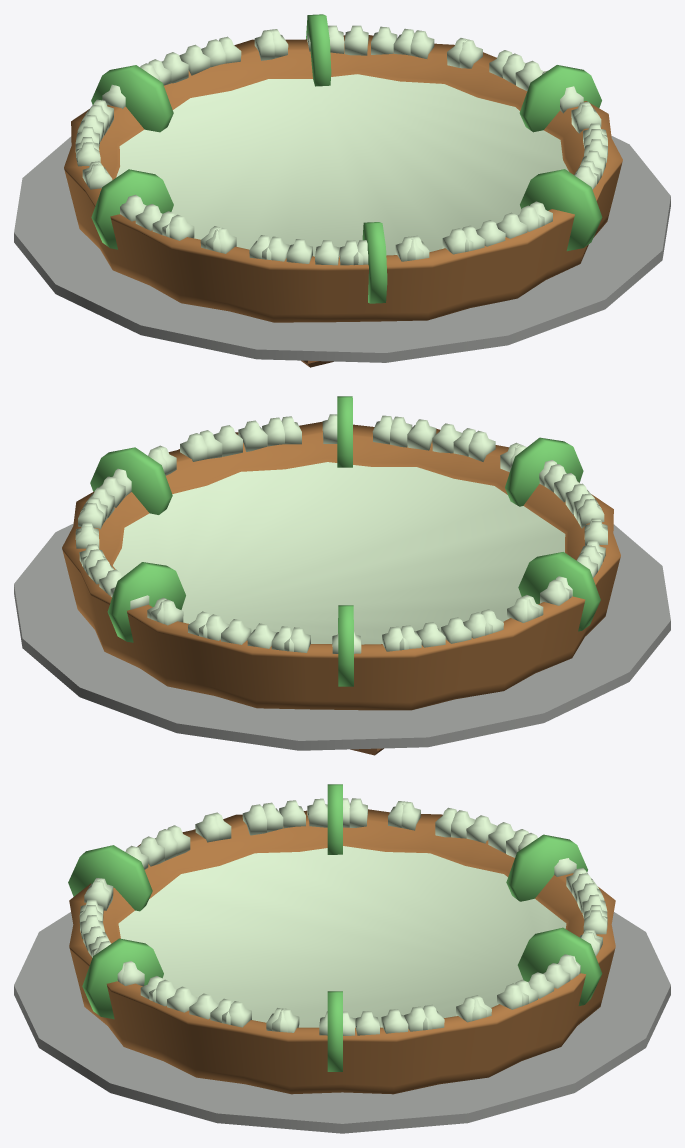
Rendered from Torta.fbx.
The picture shows the model from 3 angles, top to bottom: view 1: azimuth 30°, elevation 25°; view 2: azimuth 150°, elevation 25°; view 3: azimuth 270°, elevation 25°; orthographic projection.
Visible parts, largest first — view 1: Cube.077, Cube.079; view 2: Cube.077, Cube.079; view 3: Cube.077, Cube.079.
Boxes of the visible parts, x1,y1,x2,y2 form: Cube.077: (64, 14, 622, 322); Cube.079: (14, 135, 670, 367); Cube.077: (62, 396, 620, 710); Cube.079: (14, 523, 670, 755); Cube.077: (68, 784, 615, 1094); Cube.079: (14, 912, 670, 1133).
Size of the model in its own units: 30.71 by 10.2 by 30.71.
